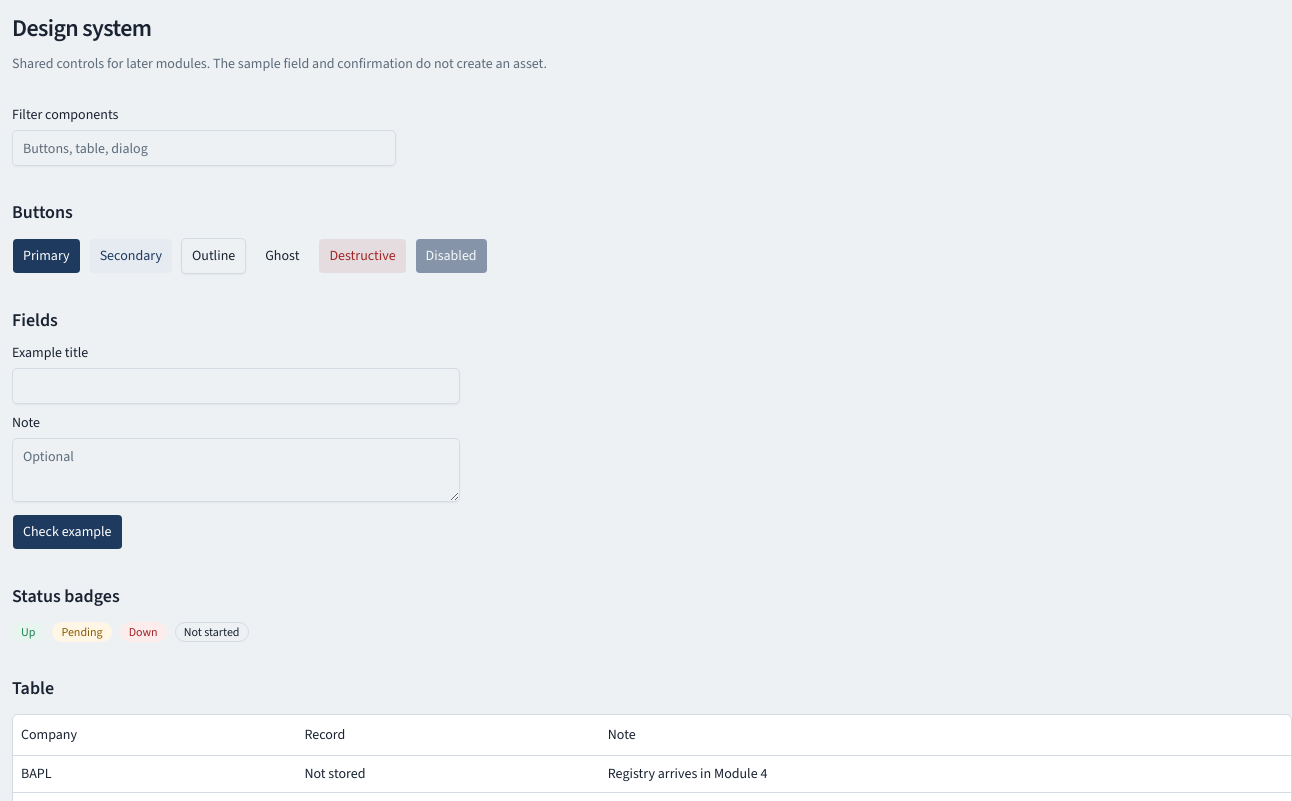
Test: DesignSystemPage › shows an empty filter result
Step 1. Type "zzzz" into the field labelled "Filter components" → (204, 148), box [12, 130, 396, 166]
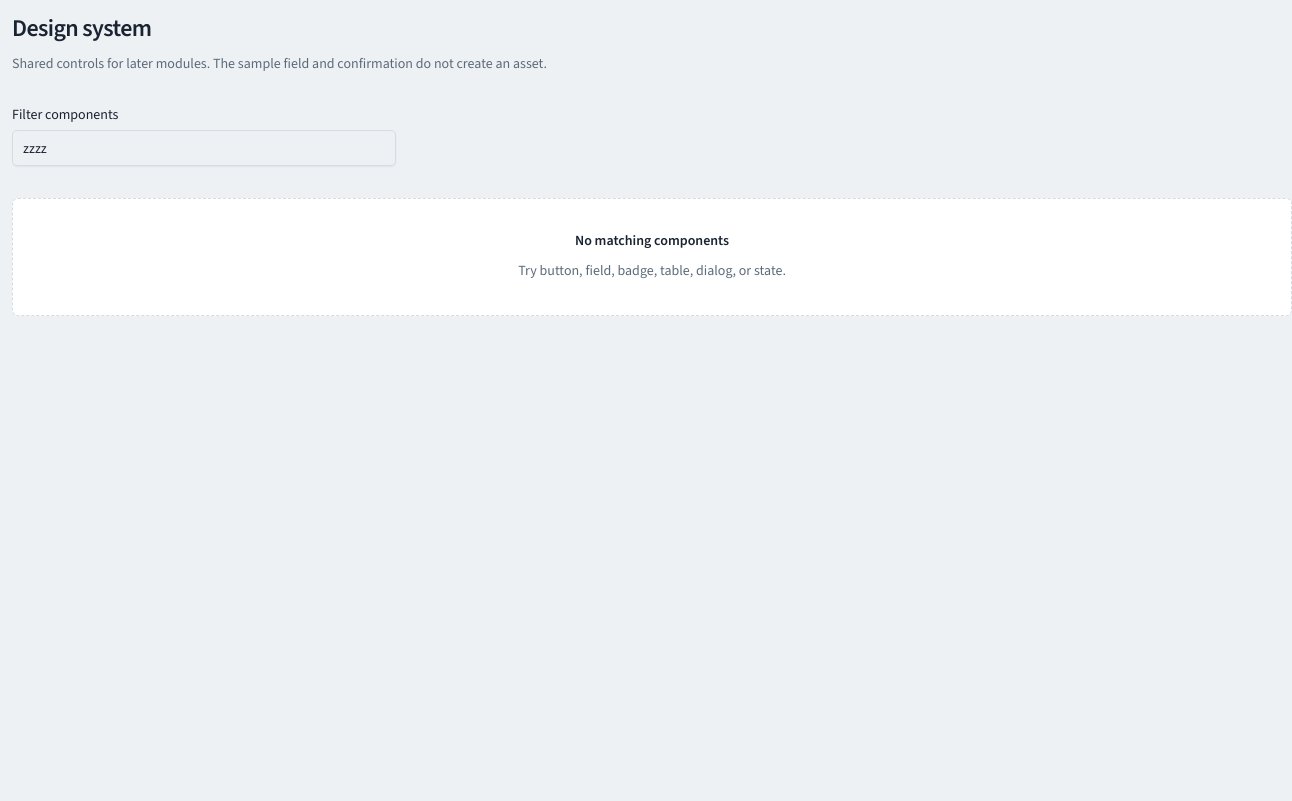
Expected: the heading "No matching components" is shown, [575, 231, 729, 250]
